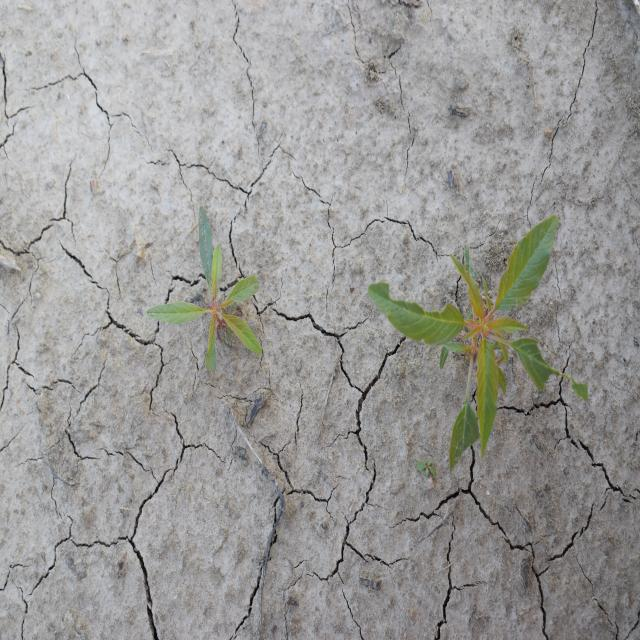Waterhemp: (365, 213, 592, 476), (144, 196, 264, 378)
